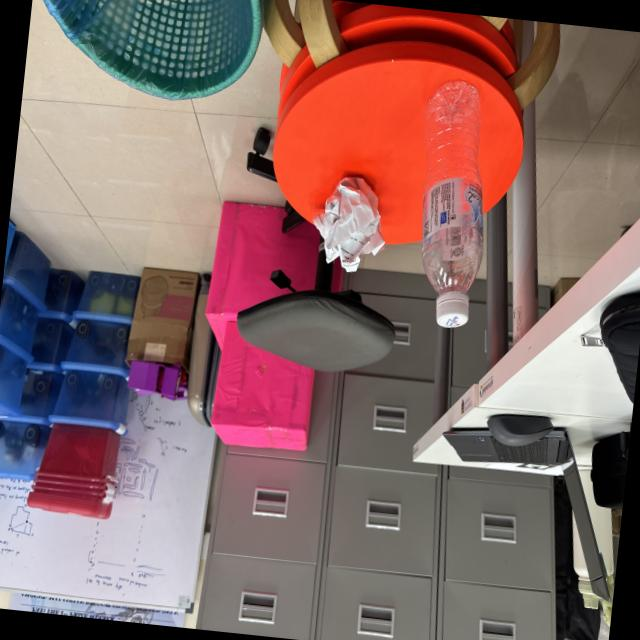crumpled_paper: (306, 156, 396, 282)
plastic_bottle: (394, 66, 508, 338)
